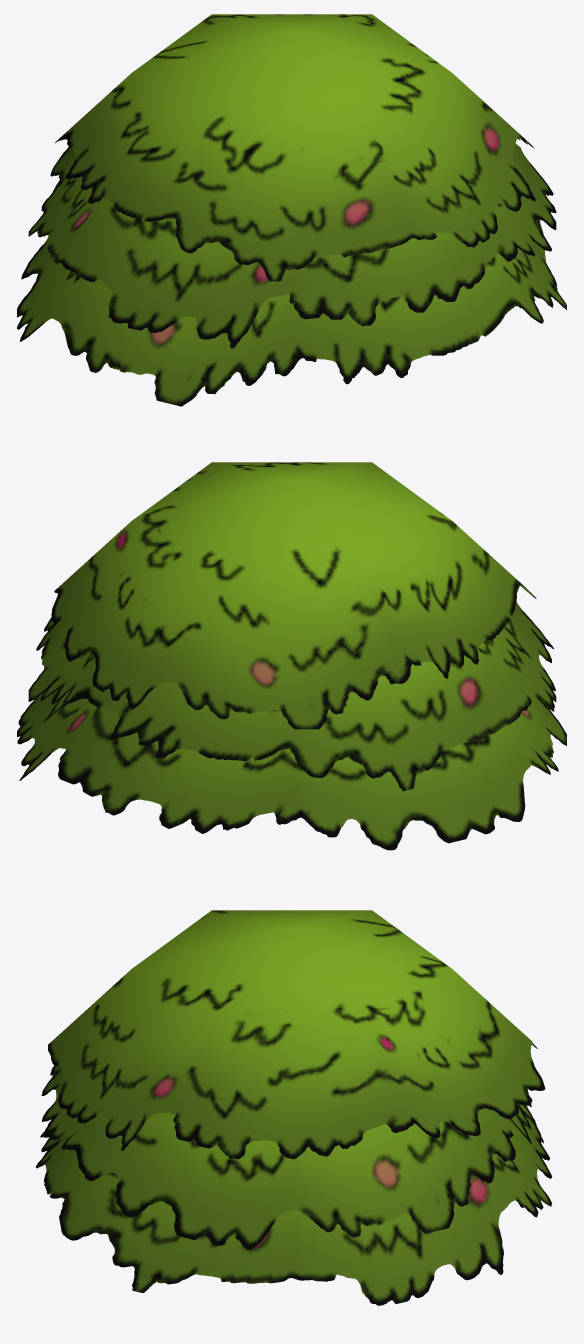
The model's file is Bush_05.fbx.
The picture shows the model from 3 angles, top to bottom: view 1: azimuth 30°, elevation 25°; view 2: azimuth 150°, elevation 25°; view 3: azimuth 270°, elevation 25°; orthographic projection.
Parts seen in each view (by area): view 1: Bush_05; view 2: Bush_05; view 3: Bush_05.
Part boxes in pixels (bbox=[...]): Bush_05: bbox=[17, 14, 566, 406]; Bush_05: bbox=[17, 462, 566, 850]; Bush_05: bbox=[35, 910, 551, 1305].
Bounding box in the file's own units: 117 × 53.9 × 102.
